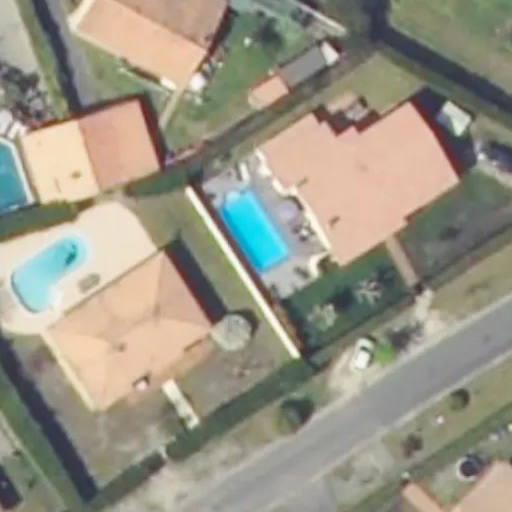pool: (213, 212, 293, 264)
